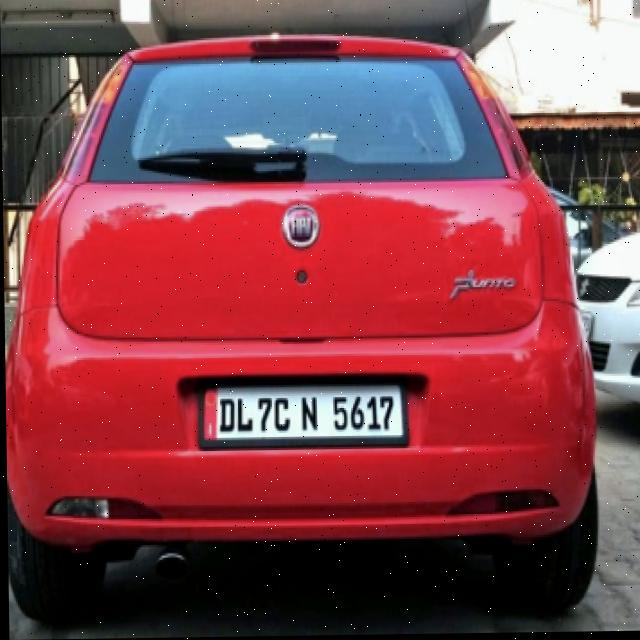plate: (195, 380, 408, 450)
